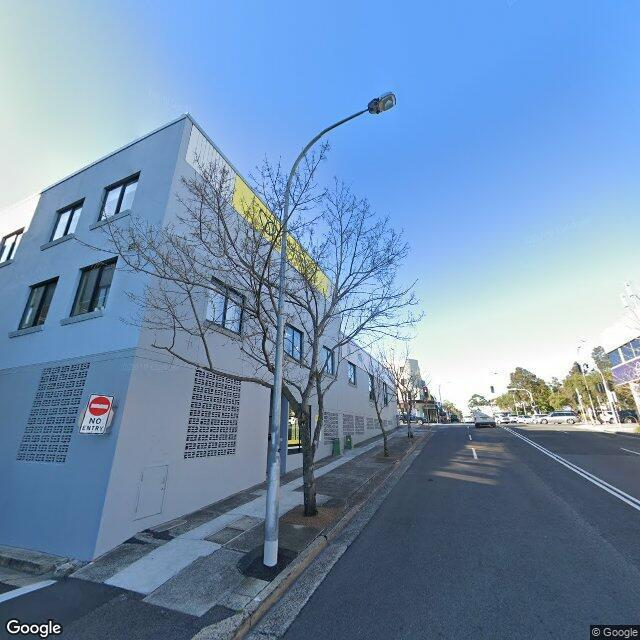steel-pole: (264, 220, 286, 568)
streetlight: (283, 90, 396, 220)
